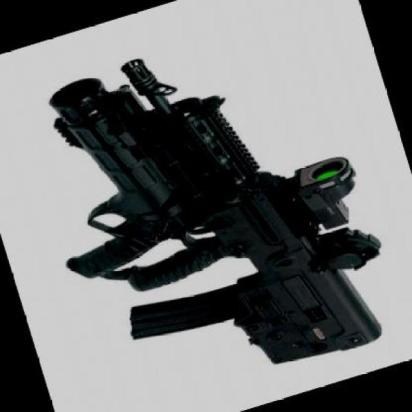Gun: (11, 2, 412, 412)
